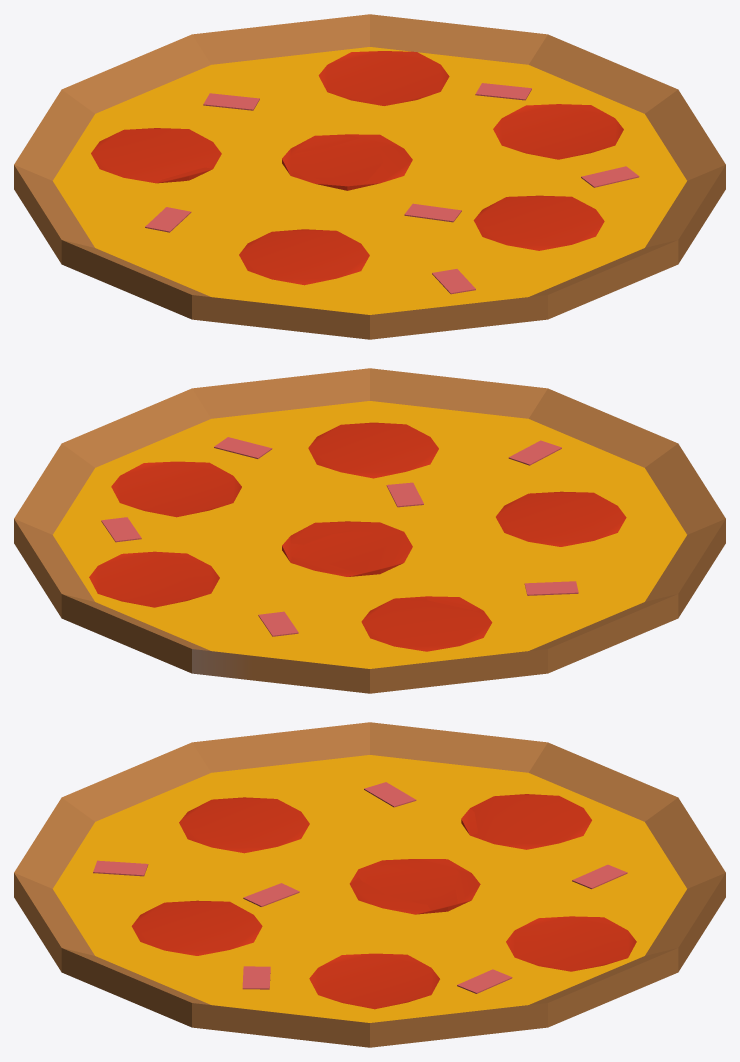
Rendered from pizza.obj.
3 renders of one model, top to bottom at view 1: azimuth 30°, elevation 25°; view 2: azimuth 150°, elevation 25°; view 3: azimuth 270°, elevation 25°, orthographic.
Parts seen in each view (by area): view 1: Cylinder_Mesh; view 2: Cylinder_Mesh; view 3: Cylinder_Mesh.
Boxes of the visible parts, box(x1,y1,x2,y2) form: Cylinder_Mesh: box(14, 14, 725, 339); Cylinder_Mesh: box(14, 368, 725, 693); Cylinder_Mesh: box(14, 722, 725, 1047).
Size of the model in its own units: 0.2974 by 0.0113 by 0.2974.
